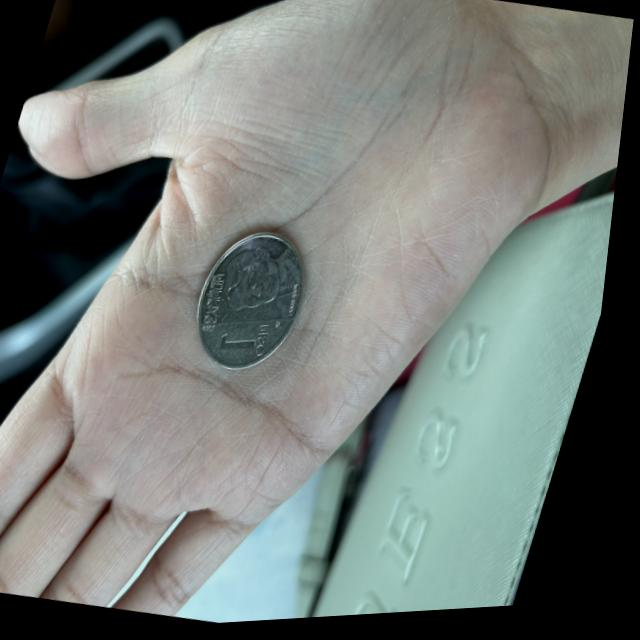1_New_Front: (221, 313, 286, 368)
